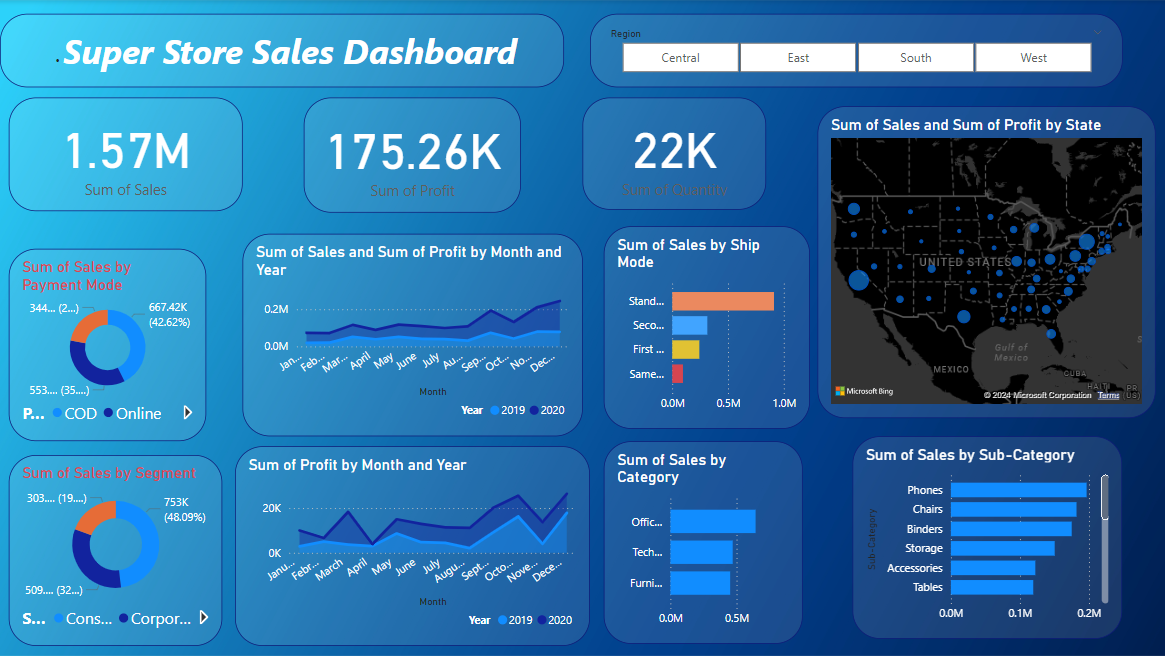

Layout of this report page (visuals, bound fields, positions):
{"tool":"powerbi","page":{"name":"Page 1","canvas":[1280,720],"ordinal":0},"visuals":[{"type":"donutChart","fields":{"Category":["SuperStore_Sales_Dataset.Payment Mode"],"Y":["Sum(SuperStore_Sales_Dataset.Sales)"]},"box":[9.6,273.1,216.8,211.3],"z":0},{"type":"donutChart","fields":{"Category":["SuperStore_Sales_Dataset.Segment"],"Y":["Sum(SuperStore_Sales_Dataset.Sales)"]},"box":[9.6,499.5,234.6,209.9],"z":1000},{"type":"stackedAreaChart","fields":{"Category":["SuperStore_Sales_Dataset.Order Date.Variation.Date Hierarchy.Month"],"Series":["SuperStore_Sales_Dataset.Order Date.Variation.Date Hierarchy.Year"],"Y":["Sum(SuperStore_Sales_Dataset.Sales)"]},"box":[266.2,256.6,373.2,222.3],"z":2000},{"type":"stackedAreaChart","fields":{"Category":["SuperStore_Sales_Dataset.Order Date.Variation.Date Hierarchy.Month"],"Series":["SuperStore_Sales_Dataset.Order Date.Variation.Date Hierarchy.Year"],"Y":["Sum(SuperStore_Sales_Dataset.Profit)"]},"box":[258,489.9,389.7,219.6],"z":3000},{"type":"clusteredBarChart","fields":{"Category":["SuperStore_Sales_Dataset.Ship Mode"],"Y":["Sum(SuperStore_Sales_Dataset.Sales)"]},"box":[662.8,248.4,226.4,222.3],"z":4000},{"type":"clusteredBarChart","fields":{"Category":["SuperStore_Sales_Dataset.Category"],"Y":["Sum(SuperStore_Sales_Dataset.Sales)"]},"box":[662.8,484.4,218.2,222.3],"z":5000},{"type":"map","fields":{"Category":["SuperStore_Sales_Dataset.State"],"Size":["Sum(SuperStore_Sales_Dataset.Sales)"]},"box":[897.6,117,371.6,342.6],"z":6000},{"type":"clusteredBarChart","fields":{"Category":["SuperStore_Sales_Dataset.Sub-Category"],"Y":["Sum(SuperStore_Sales_Dataset.Sales)"]},"box":[935.9,478.9,296.4,222.3],"z":7000},{"type":"textbox","box":[0,15.1,618.9,81],"z":8000},{"type":"slicer","fields":{"Values":["SuperStore_Sales_Dataset.Region"]},"box":[647.7,15.1,584.6,81],"z":9000},{"type":"card","fields":{"Values":["Sum(SuperStore_Sales_Dataset.Sales)"]},"box":[9.6,107,256.6,124.9],"z":10000},{"type":"card","fields":{"Values":["Sum(SuperStore_Sales_Dataset.Profit)"]},"box":[333.4,107,238.8,126.2],"z":11000},{"type":"card","fields":{"Values":["Sum(SuperStore_Sales_Dataset.Quantity)"]},"box":[639.5,107,201.7,123.5],"z":12000}]}

Visuals, with their boxes in screenshot pixels (x1, y1, x2, y2), scaled from the page's 1280x720 canvas onto the 1165x656 screenshot:
donutChart - SuperStore_Sales_Dataset.Payment Mode x Sum(SuperStore_Sales_Dataset.Sales): <bbox>9, 249, 206, 441</bbox>
donutChart - SuperStore_Sales_Dataset.Segment x Sum(SuperStore_Sales_Dataset.Sales): <bbox>9, 455, 222, 646</bbox>
stackedAreaChart - SuperStore_Sales_Dataset.Order Date.Variation.Date Hierarchy.Month x SuperStore_Sales_Dataset.Order Date.Variation.Date Hierarchy.Year: <bbox>242, 234, 582, 436</bbox>
stackedAreaChart - SuperStore_Sales_Dataset.Order Date.Variation.Date Hierarchy.Month x SuperStore_Sales_Dataset.Order Date.Variation.Date Hierarchy.Year: <bbox>235, 446, 590, 646</bbox>
clusteredBarChart - SuperStore_Sales_Dataset.Ship Mode x Sum(SuperStore_Sales_Dataset.Sales): <bbox>603, 226, 809, 429</bbox>
clusteredBarChart - SuperStore_Sales_Dataset.Category x Sum(SuperStore_Sales_Dataset.Sales): <bbox>603, 441, 802, 644</bbox>
map - SuperStore_Sales_Dataset.State x Sum(SuperStore_Sales_Dataset.Sales): <bbox>817, 107, 1155, 419</bbox>
clusteredBarChart - SuperStore_Sales_Dataset.Sub-Category x Sum(SuperStore_Sales_Dataset.Sales): <bbox>852, 436, 1122, 639</bbox>
textbox: <bbox>0, 14, 563, 88</bbox>
slicer - SuperStore_Sales_Dataset.Region: <bbox>590, 14, 1122, 88</bbox>
card - Sum(SuperStore_Sales_Dataset.Sales): <bbox>9, 97, 242, 211</bbox>
card - Sum(SuperStore_Sales_Dataset.Profit): <bbox>303, 97, 521, 212</bbox>
card - Sum(SuperStore_Sales_Dataset.Quantity): <bbox>582, 97, 766, 210</bbox>
